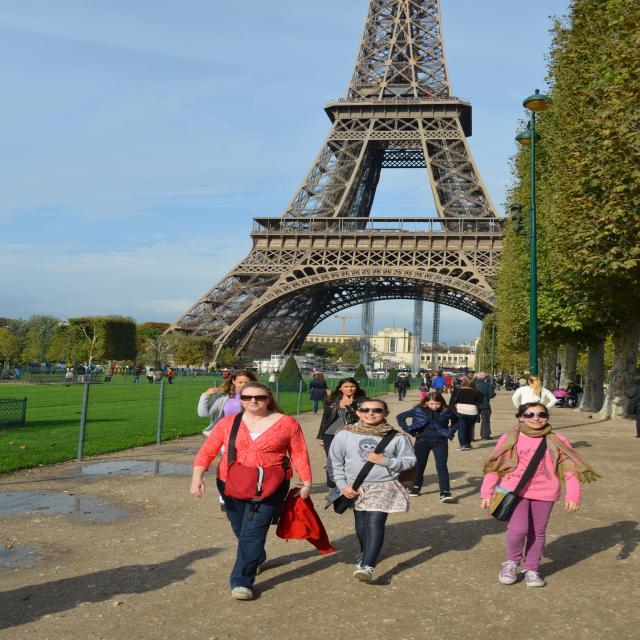body: (189, 380, 336, 601), (478, 400, 601, 590), (0, 544, 228, 634), (323, 398, 418, 584), (196, 370, 259, 512), (382, 513, 504, 585), (395, 390, 464, 504), (316, 376, 372, 501), (542, 518, 640, 581), (260, 533, 354, 596), (449, 376, 484, 451), (511, 375, 559, 424), (474, 371, 497, 441), (450, 469, 483, 507), (422, 364, 502, 377), (625, 377, 640, 439), (308, 373, 329, 415), (288, 481, 330, 497), (302, 364, 359, 375), (564, 382, 585, 408), (394, 372, 411, 402), (432, 373, 447, 395), (371, 364, 412, 372), (98, 367, 114, 382), (569, 438, 592, 448), (132, 366, 145, 383), (418, 382, 429, 402), (444, 373, 454, 394), (75, 364, 86, 382), (164, 367, 174, 385), (220, 368, 231, 384), (248, 368, 269, 376), (154, 368, 164, 384), (504, 375, 514, 391), (82, 362, 90, 381), (65, 366, 75, 381), (86, 364, 94, 382), (268, 370, 276, 388), (1, 370, 14, 380), (146, 368, 154, 383), (425, 377, 433, 392), (494, 376, 502, 390), (518, 377, 528, 388), (489, 376, 496, 390), (14, 368, 22, 380), (451, 375, 457, 389), (182, 369, 188, 378), (603, 382, 608, 392), (422, 376, 428, 384), (460, 375, 467, 381), (458, 377, 462, 387), (501, 385, 507, 391), (193, 370, 197, 378), (510, 376, 514, 383), (376, 374, 380, 379), (486, 377, 490, 382), (373, 375, 375, 379)
